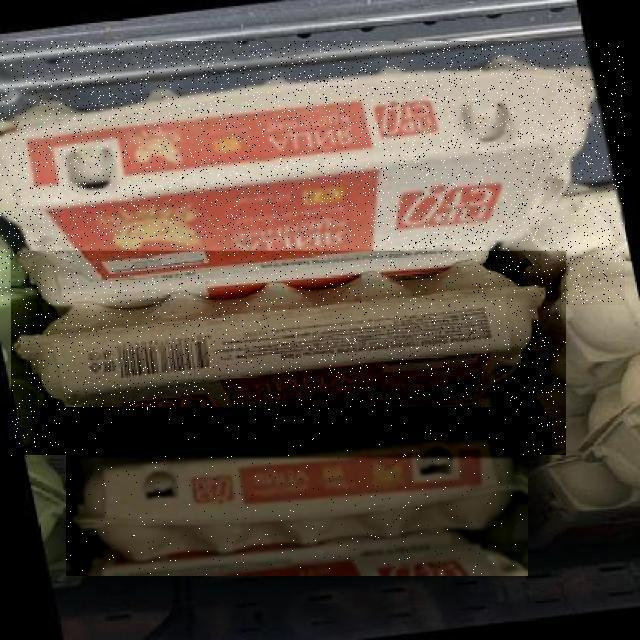egg: (15, 61, 594, 246), (15, 279, 558, 419), (73, 452, 525, 531), (18, 245, 521, 303), (559, 248, 640, 563), (83, 540, 520, 593)
